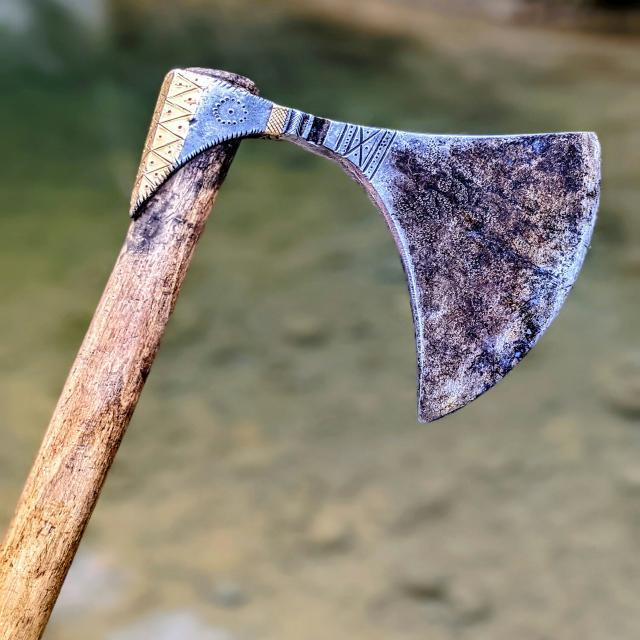Axe: (0, 69, 600, 639)
